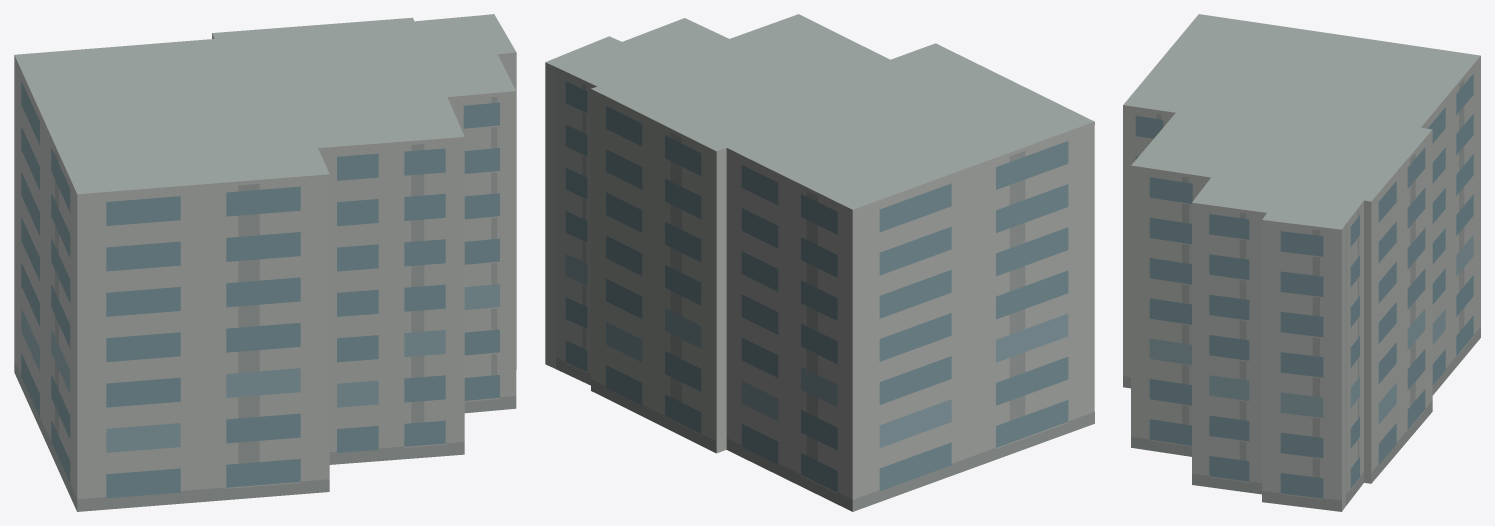
Rendered from survey-upis-32869489.glb.
The picture shows the model from 3 angles, left to right: view 1: azimuth 30°, elevation 25°; view 2: azimuth 150°, elevation 25°; view 3: azimuth 270°, elevation 25°; orthographic projection. The views are drawn at different scales.
Parts seen in each view (by area): view 1: survey-upis-32869489.tmp; view 2: survey-upis-32869489.tmp; view 3: survey-upis-32869489.tmp.
Boxes of the visible parts, bbox=[...] form: survey-upis-32869489.tmp: bbox=[14, 14, 516, 511]; survey-upis-32869489.tmp: bbox=[545, 14, 1094, 511]; survey-upis-32869489.tmp: bbox=[1123, 14, 1480, 511].
Bounding box in the file's own units: 31.81 × 19.4 × 22.3.
